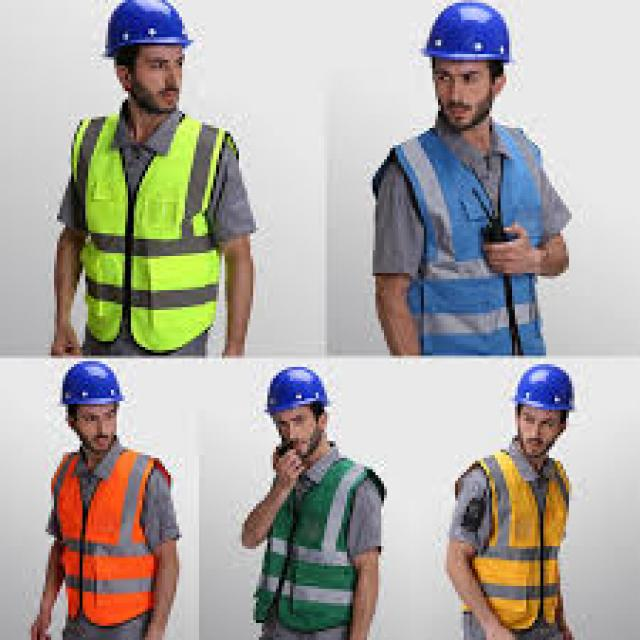Reflective-Jacket: (65, 108, 242, 356), (48, 446, 171, 628), (464, 450, 574, 634)
Safety-Helmet: (412, 0, 526, 71), (94, 0, 199, 63), (258, 361, 336, 418), (506, 358, 580, 416), (54, 358, 128, 409)
